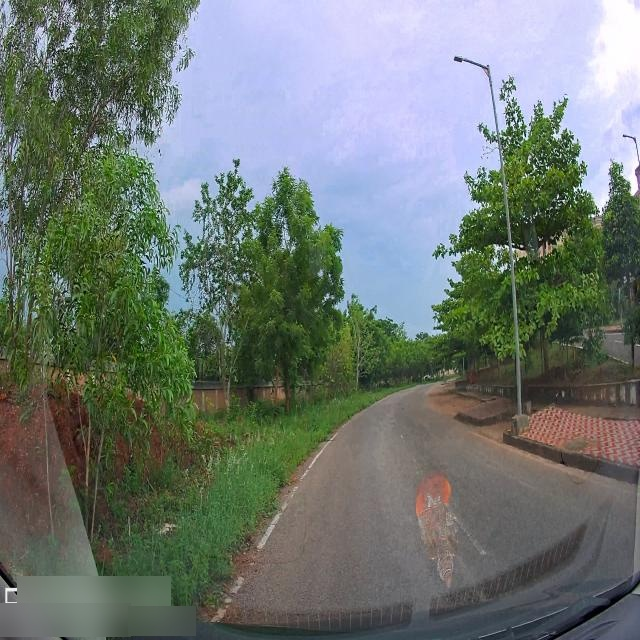pothole: (375, 407, 401, 431)
